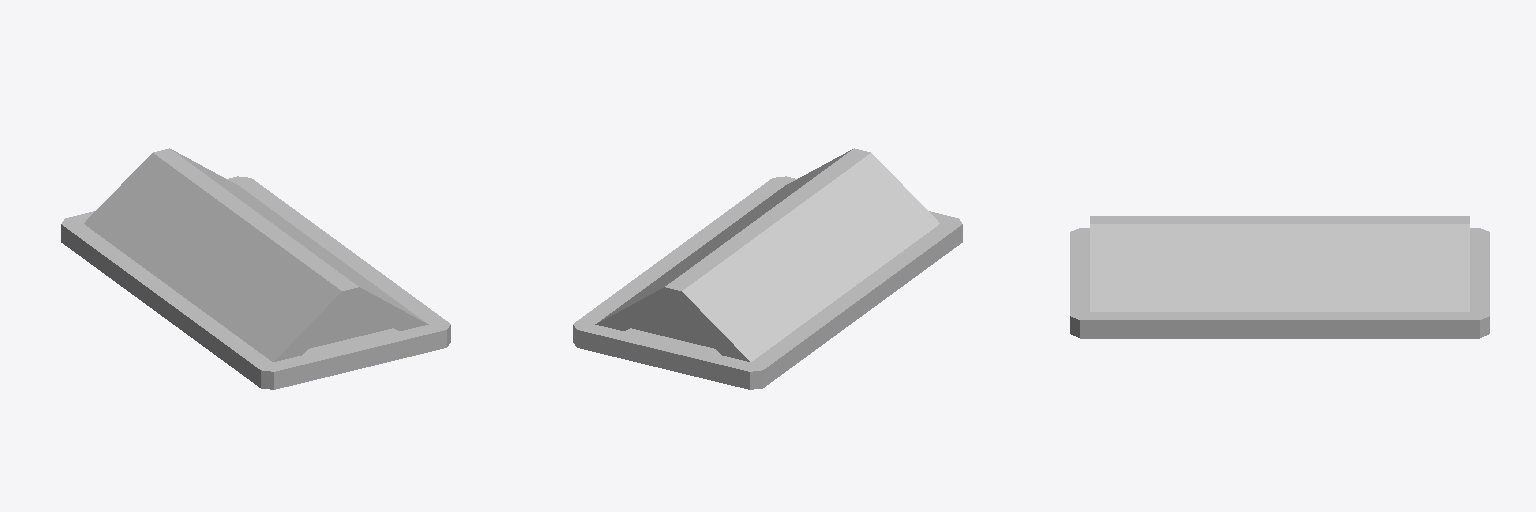
Rendered from cryptLargeRoof.obj.
3 views of the same model, side by side, from view 1: azimuth 30°, elevation 25°; view 2: azimuth 150°, elevation 25°; view 3: azimuth 270°, elevation 25° (orthographic).
Parts seen in each view (by area): view 1: cryptLargeRoof; view 2: cryptLargeRoof; view 3: cryptLargeRoof.
Boxes of the visible parts, x1,y1,x2,y2 form: cryptLargeRoof: [61, 148, 450, 389]; cryptLargeRoof: [573, 148, 962, 389]; cryptLargeRoof: [1070, 216, 1489, 338].
Bounding box in the file's own units: 1.1 × 0.4 × 2.1.